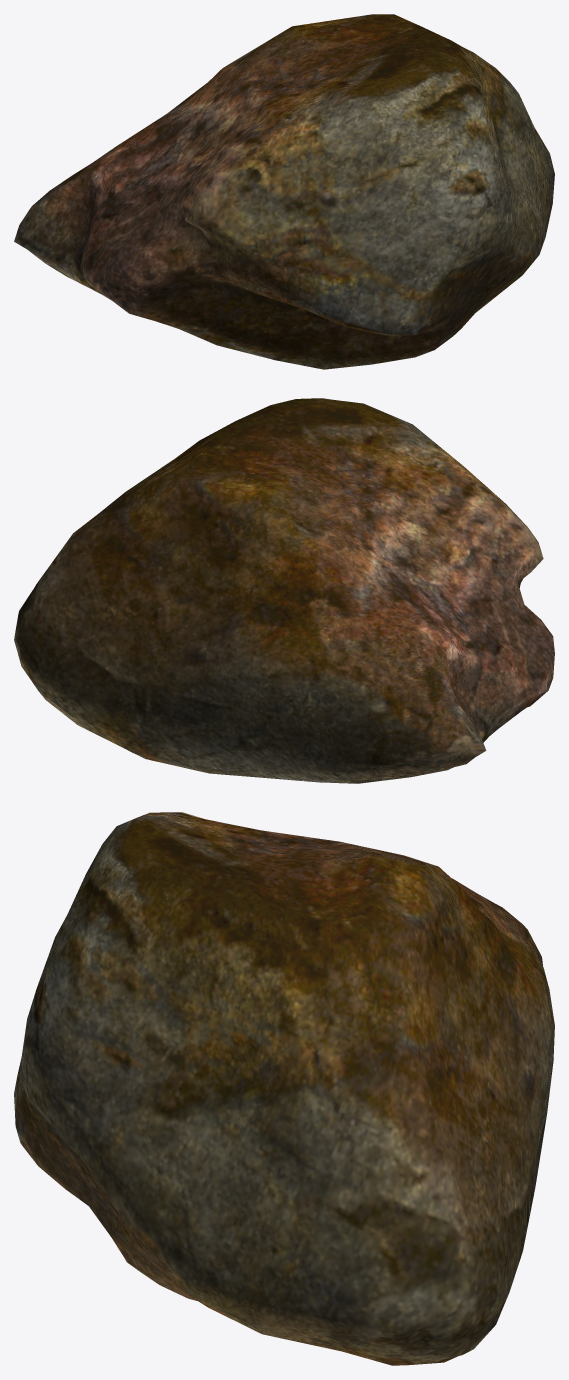
File: roc1.obj
The picture shows the model from 3 angles, top to bottom: view 1: azimuth 30°, elevation 25°; view 2: azimuth 150°, elevation 25°; view 3: azimuth 270°, elevation 25°; orthographic projection. The views are drawn at different scales.
Visible parts, largest first — view 1: default; view 2: default; view 3: default.
Boxes of the visible parts, <box> form: default: <box>14,14,554,369</box>; default: <box>14,398,554,783</box>; default: <box>14,812,554,1365</box>.
Bounding box in the file's own units: 43.77 × 25.7 × 28.76.
1 material, 1 textured.
